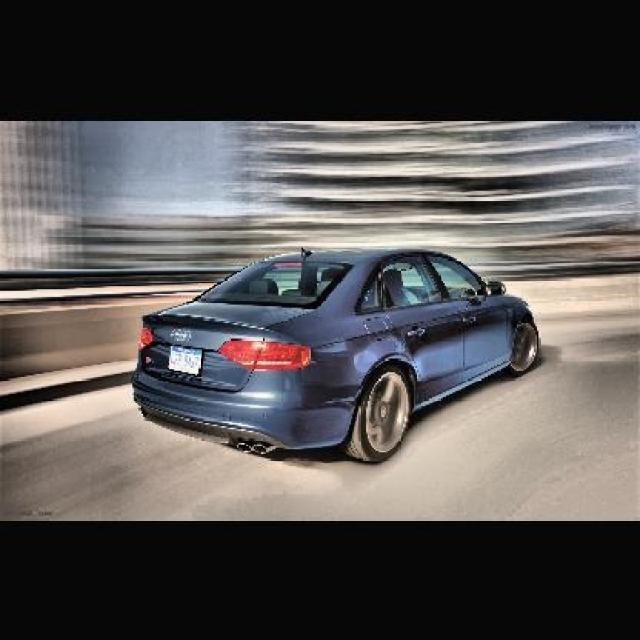blue: (133, 249, 536, 460)
